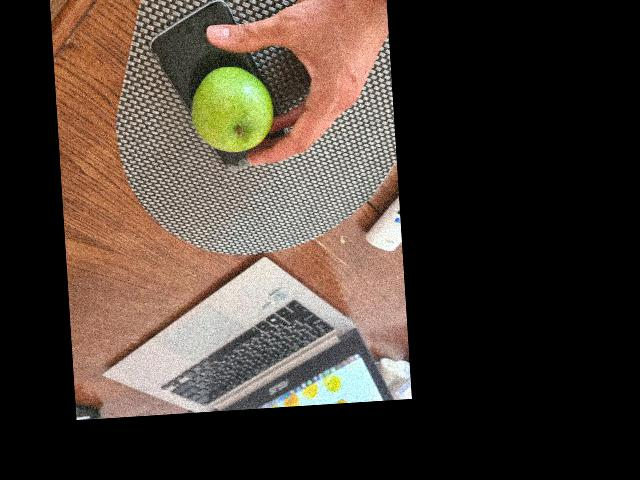apple: (188, 66, 270, 151)
